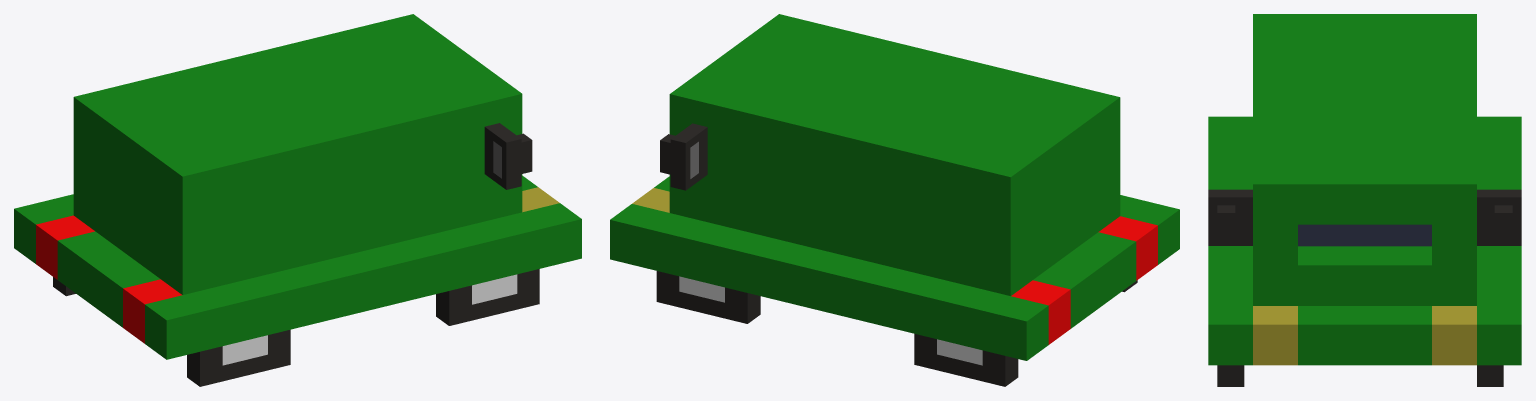
Rendered from green_car.obj.
3 views of the same model, side by side, from view 1: azimuth 30°, elevation 25°; view 2: azimuth 150°, elevation 25°; view 3: azimuth 270°, elevation 25° (orthographic). The views are drawn at different scales.
Size of the model in its own units: 55 by 25 by 35.
